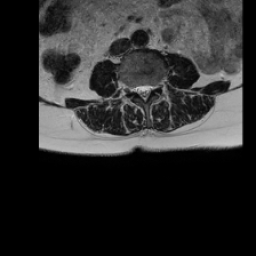CCS_normal: (141, 79, 147, 106)
LFS_stenosis: (152, 78, 158, 96)
LLS_normal: (147, 79, 152, 99)
RFS_normal: (129, 79, 135, 97)
RLS_normal: (135, 79, 141, 100)
